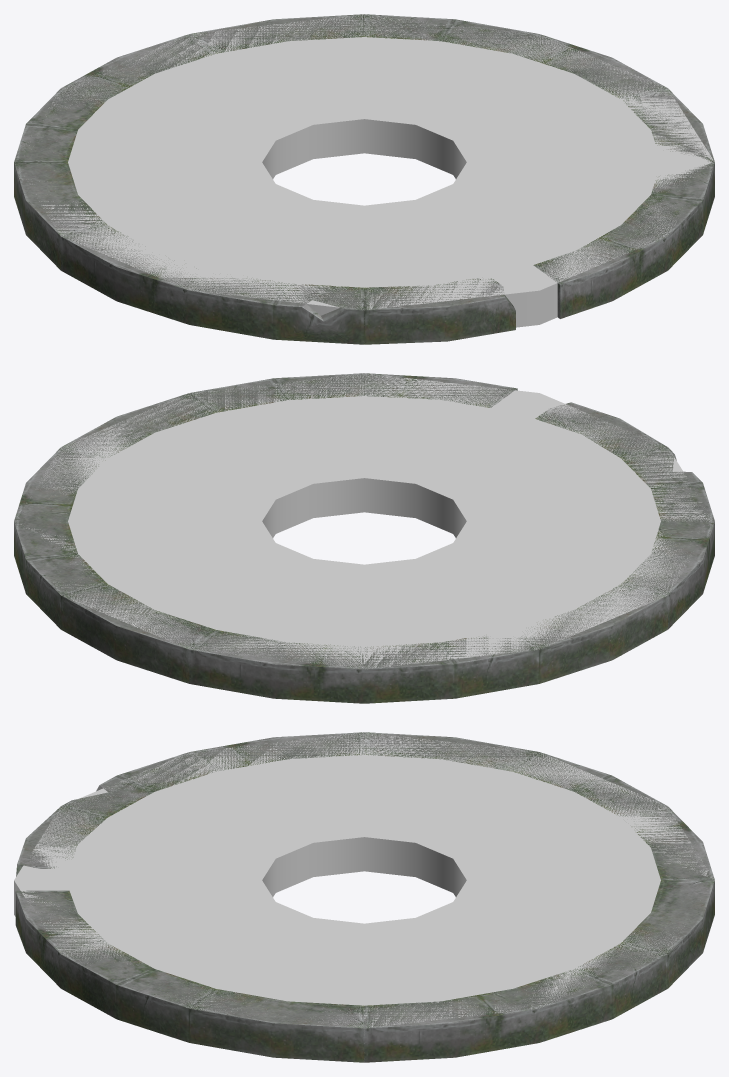
File: Scene_Object_DiZuo_1.FBX
The picture shows the model from 3 angles, top to bottom: view 1: azimuth 30°, elevation 25°; view 2: azimuth 150°, elevation 25°; view 3: azimuth 270°, elevation 25°; orthographic projection.
Parts seen in each view (by area): view 1: Scene_Object_DiZuo_1_Xzm, Scene_Object_DiZuo_1; view 2: Scene_Object_DiZuo_1_Xzm, Scene_Object_DiZuo_1; view 3: Scene_Object_DiZuo_1_Xzm, Scene_Object_DiZuo_1.
Boxes of the visible parts, x1,y1,x2,y2 form: Scene_Object_DiZuo_1_Xzm: [29, 14, 714, 327]; Scene_Object_DiZuo_1: [14, 14, 714, 344]; Scene_Object_DiZuo_1_Xzm: [15, 373, 712, 668]; Scene_Object_DiZuo_1: [14, 373, 714, 703]; Scene_Object_DiZuo_1_Xzm: [14, 732, 714, 1043]; Scene_Object_DiZuo_1: [15, 732, 714, 1062].
Size of the model in its own units: 1023 by 55.26 by 1023.
